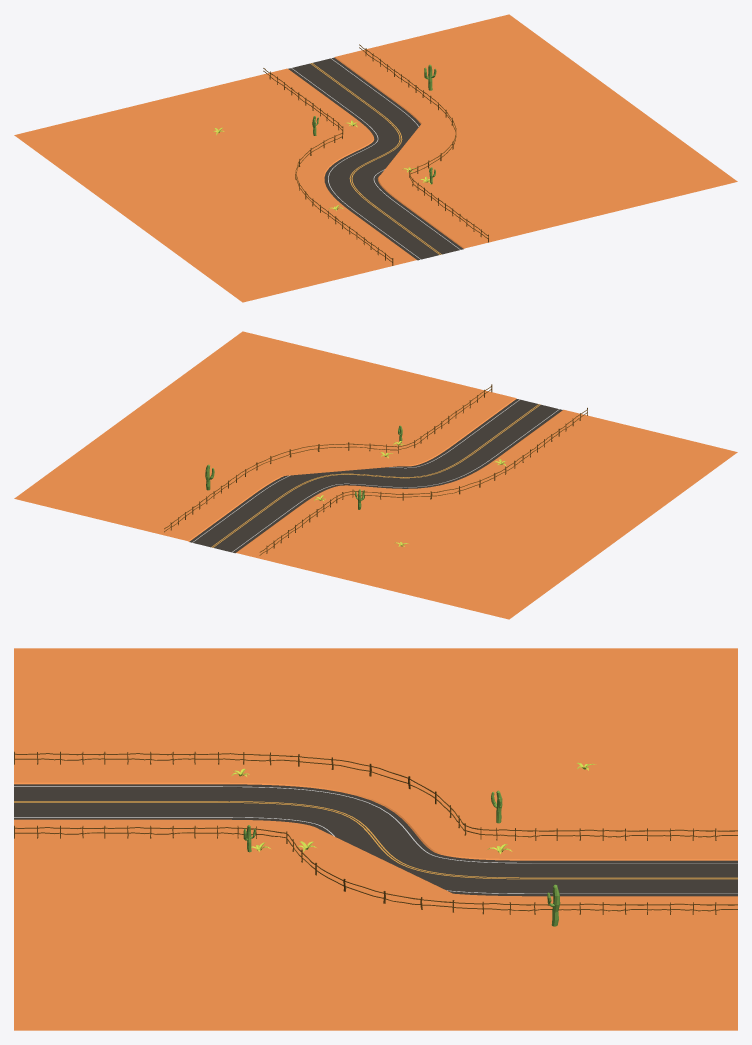
Rendered from DesertRoadStraight5.fbx.
The picture shows the model from 3 angles, top to bottom: view 1: azimuth 30°, elevation 25°; view 2: azimuth 150°, elevation 25°; view 3: azimuth 270°, elevation 25°; orthographic projection. The views are drawn at different scales.
Parts seen in each view (by area): view 1: DRS5Road, DRS5WoodFenceRight, DRS5WoodFenceLeft; view 2: DRS5Road, DRS5WoodFenceRight, DRS5WoodFenceLeft; view 3: DRS5Road, DRS5WoodFenceRight, DRS5WoodFenceLeft.
Part boxes in pixels (x1,y1,x2,y2): DRS5Road: (14, 14, 737, 302); DRS5WoodFenceRight: (263, 68, 393, 265); DRS5WoodFenceLeft: (359, 44, 488, 242); DRS5Road: (14, 331, 737, 619); DRS5WoodFenceRight: (259, 407, 587, 555); DRS5WoodFenceLeft: (164, 384, 492, 532); DRS5Road: (14, 648, 737, 1030); DRS5WoodFenceRight: (14, 751, 737, 840); DRS5WoodFenceLeft: (14, 825, 737, 914).
Size of what is drawn, in the model's own units: 15000 by 766 by 12000.
